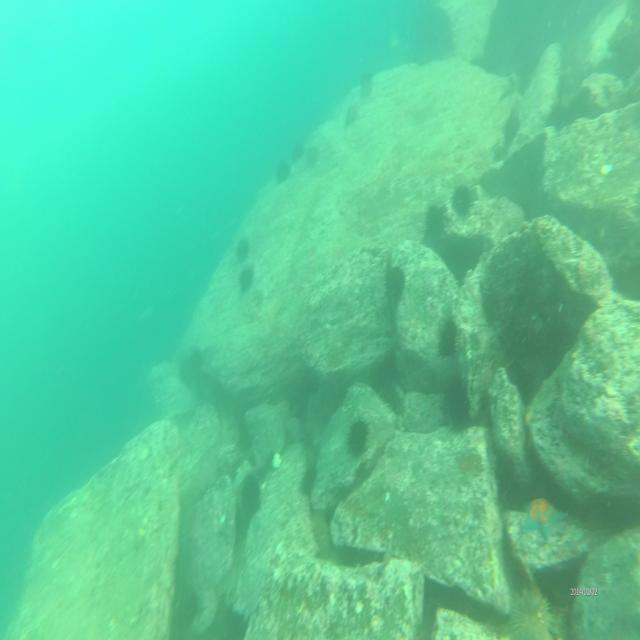echinus: (510, 580, 556, 640), (238, 472, 264, 521), (347, 418, 373, 460), (385, 263, 408, 301), (437, 319, 457, 360), (423, 203, 444, 242), (298, 463, 318, 501), (452, 182, 472, 218), (359, 70, 373, 98), (234, 236, 251, 259), (275, 160, 291, 184), (304, 146, 320, 168), (240, 263, 253, 290), (344, 102, 358, 126), (290, 139, 303, 163)
starfish: (521, 487, 567, 545)
